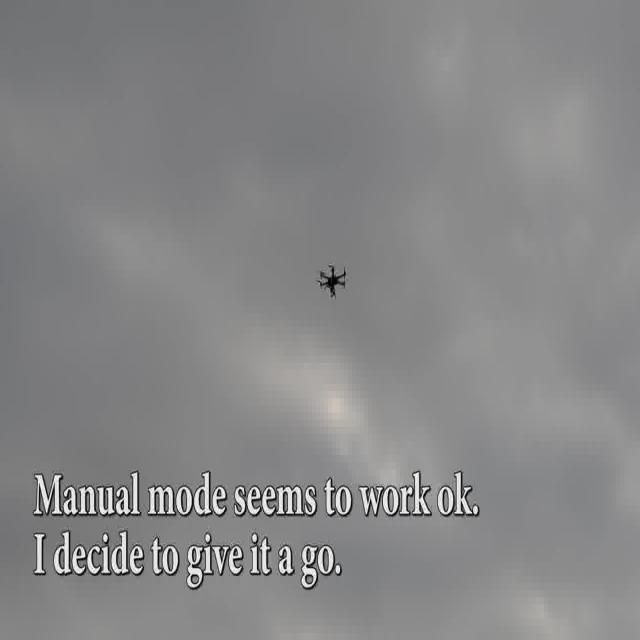drone: (318, 263, 348, 301)
